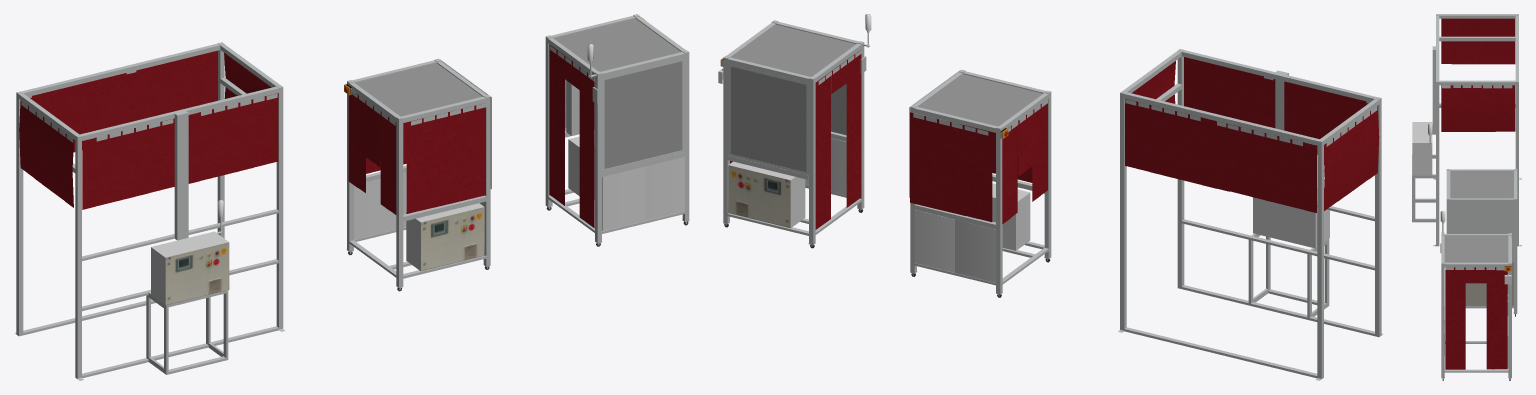
Rendered from YF_LiuShuiZhao.FBX.
The picture shows the model from 3 angles, left to right: view 1: azimuth 30°, elevation 25°; view 2: azimuth 150°, elevation 25°; view 3: azimuth 270°, elevation 25°; orthographic projection. The views are drawn at different scales.
Visible parts, largest first — view 1: YF_Model_LiuShuiZhao_01_1, YF_Model_LiuShuiZhao_02_1, YF_Model_LiuShuiZhao_03_1, YF_Model_LiuShuiZhao_03_Wang, YF_Model_LiuShuiZhao_01_2, YF_Model_LiuShuiZhao_02_2, YF_Model_LiuShuiZhao_02_Wang, YF_Model_LiuShuiZhao_01_3, YF_Model_LiuShuiZhao_03_2; view 2: YF_Model_LiuShuiZhao_01_1, YF_Model_LiuShuiZhao_02_1, YF_Model_LiuShuiZhao_03_1, YF_Model_LiuShuiZhao_03_Wang, YF_Model_LiuShuiZhao_03_2, YF_Model_LiuShuiZhao_02_Wang, YF_Model_LiuShuiZhao_01_2, YF_Model_LiuShuiZhao_01_3, YF_Model_LiuShuiZhao_02_2; view 3: YF_Model_LiuShuiZhao_01_1, YF_Model_LiuShuiZhao_03_1, YF_Model_LiuShuiZhao_02_1, YF_Model_LiuShuiZhao_02_Wang, YF_Model_LiuShuiZhao_03_Wang, YF_Model_LiuShuiZhao_01_2, YF_Model_LiuShuiZhao_01_3.
Part boxes in pixels (x1=…): YF_Model_LiuShuiZhao_01_1: x1=14, y1=42, x2=284, y2=380; YF_Model_LiuShuiZhao_02_1: x1=344, y1=58, x2=491, y2=291; YF_Model_LiuShuiZhao_03_1: x1=545, y1=14, x2=689, y2=246; YF_Model_LiuShuiZhao_03_Wang: x1=554, y1=18, x2=682, y2=168; YF_Model_LiuShuiZhao_01_2: x1=151, y1=200, x2=229, y2=305; YF_Model_LiuShuiZhao_02_2: x1=406, y1=203, x2=484, y2=271; YF_Model_LiuShuiZhao_02_Wang: x1=355, y1=63, x2=482, y2=116; YF_Model_LiuShuiZhao_01_3: x1=146, y1=290, x2=228, y2=374; YF_Model_LiuShuiZhao_03_2: x1=568, y1=133, x2=594, y2=195; YF_Model_LiuShuiZhao_01_1: x1=1118, y1=49, x2=1383, y2=380; YF_Model_LiuShuiZhao_02_1: x1=909, y1=69, x2=1051, y2=297; YF_Model_LiuShuiZhao_03_1: x1=718, y1=20, x2=866, y2=248; YF_Model_LiuShuiZhao_03_Wang: x1=730, y1=24, x2=855, y2=172; YF_Model_LiuShuiZhao_03_2: x1=728, y1=161, x2=805, y2=228; YF_Model_LiuShuiZhao_02_Wang: x1=918, y1=74, x2=1042, y2=126; YF_Model_LiuShuiZhao_01_2: x1=1253, y1=188, x2=1329, y2=248; YF_Model_LiuShuiZhao_01_3: x1=1248, y1=233, x2=1329, y2=317; YF_Model_LiuShuiZhao_02_2: x1=992, y1=183, x2=1030, y2=250; YF_Model_LiuShuiZhao_01_1: x1=1412, y1=14, x2=1521, y2=246; YF_Model_LiuShuiZhao_03_1: x1=1440, y1=233, x2=1511, y2=380; YF_Model_LiuShuiZhao_02_1: x1=1446, y1=169, x2=1517, y2=316; YF_Model_LiuShuiZhao_02_Wang: x1=1450, y1=171, x2=1513, y2=198; YF_Model_LiuShuiZhao_03_Wang: x1=1444, y1=236, x2=1508, y2=262; YF_Model_LiuShuiZhao_01_2: x1=1412, y1=122, x2=1432, y2=175; YF_Model_LiuShuiZhao_01_3: x1=1412, y1=154, x2=1435, y2=222.
Size of the model in its own units: 708 by 263 by 160.
Materials: 2 (2 with a texture image).
